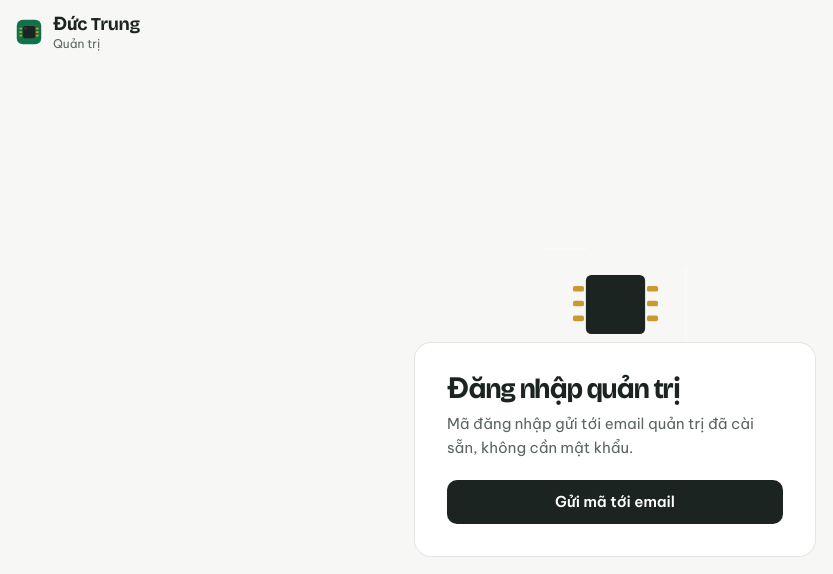
it: nút bị khoá khi request đang chờ
Click the button "Gửi mã tới email" at [615, 502], box [447, 480, 783, 524]
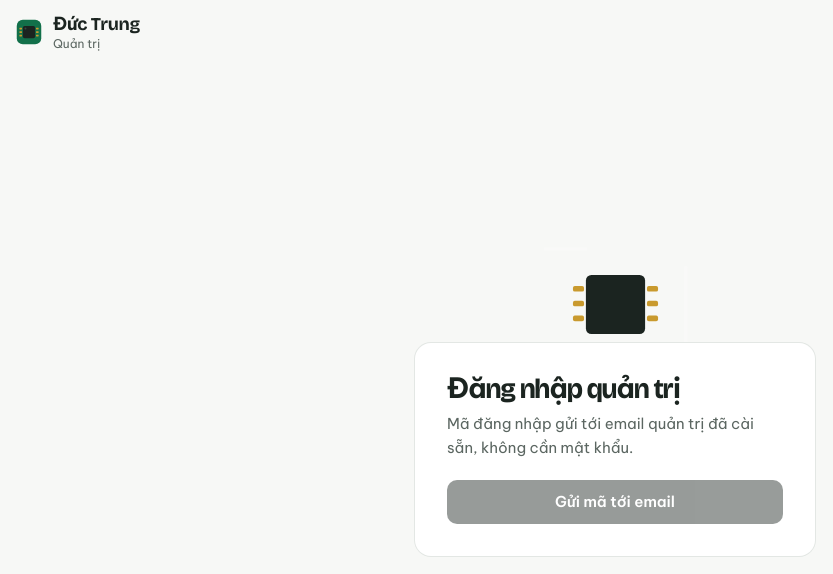
Expected: the button "Gửi mã tới email" is disabled, [447, 480, 783, 524]
